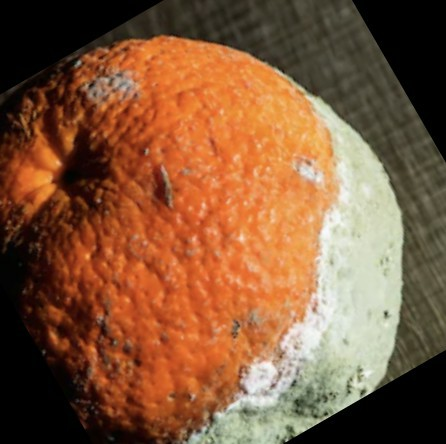rotten_orange: (8, 38, 413, 444)
